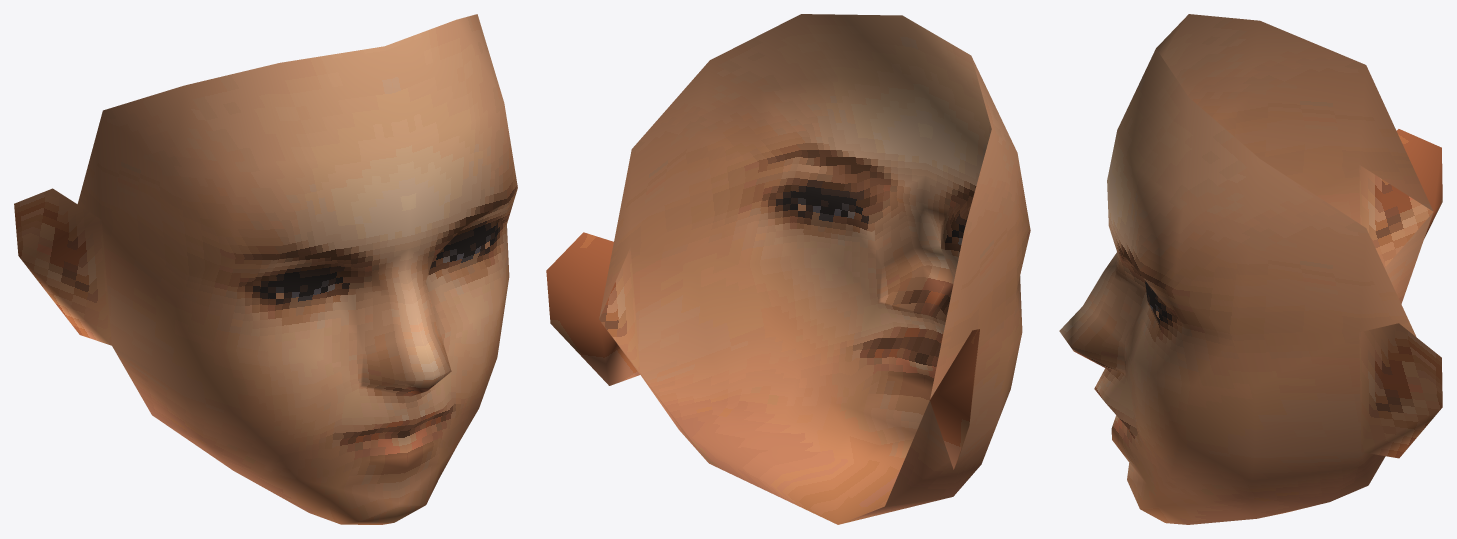
The model's file is f_hair004.glb.
The picture shows the model from 3 angles, left to right: view 1: azimuth 30°, elevation 25°; view 2: azimuth 150°, elevation 25°; view 3: azimuth 270°, elevation 25°; orthographic projection. The views are drawn at different scales.
Bounding box in the file's own units: 19.4 × 20.01 × 14.98.
Materials: 1 (1 with a texture image).
